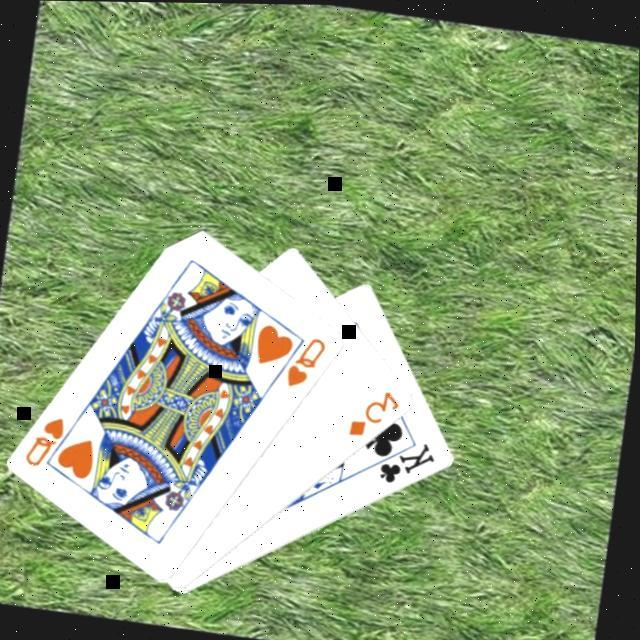3D: (344, 380, 404, 442)
KC: (362, 429, 439, 488)
QH: (20, 407, 82, 473), (281, 328, 330, 392)
